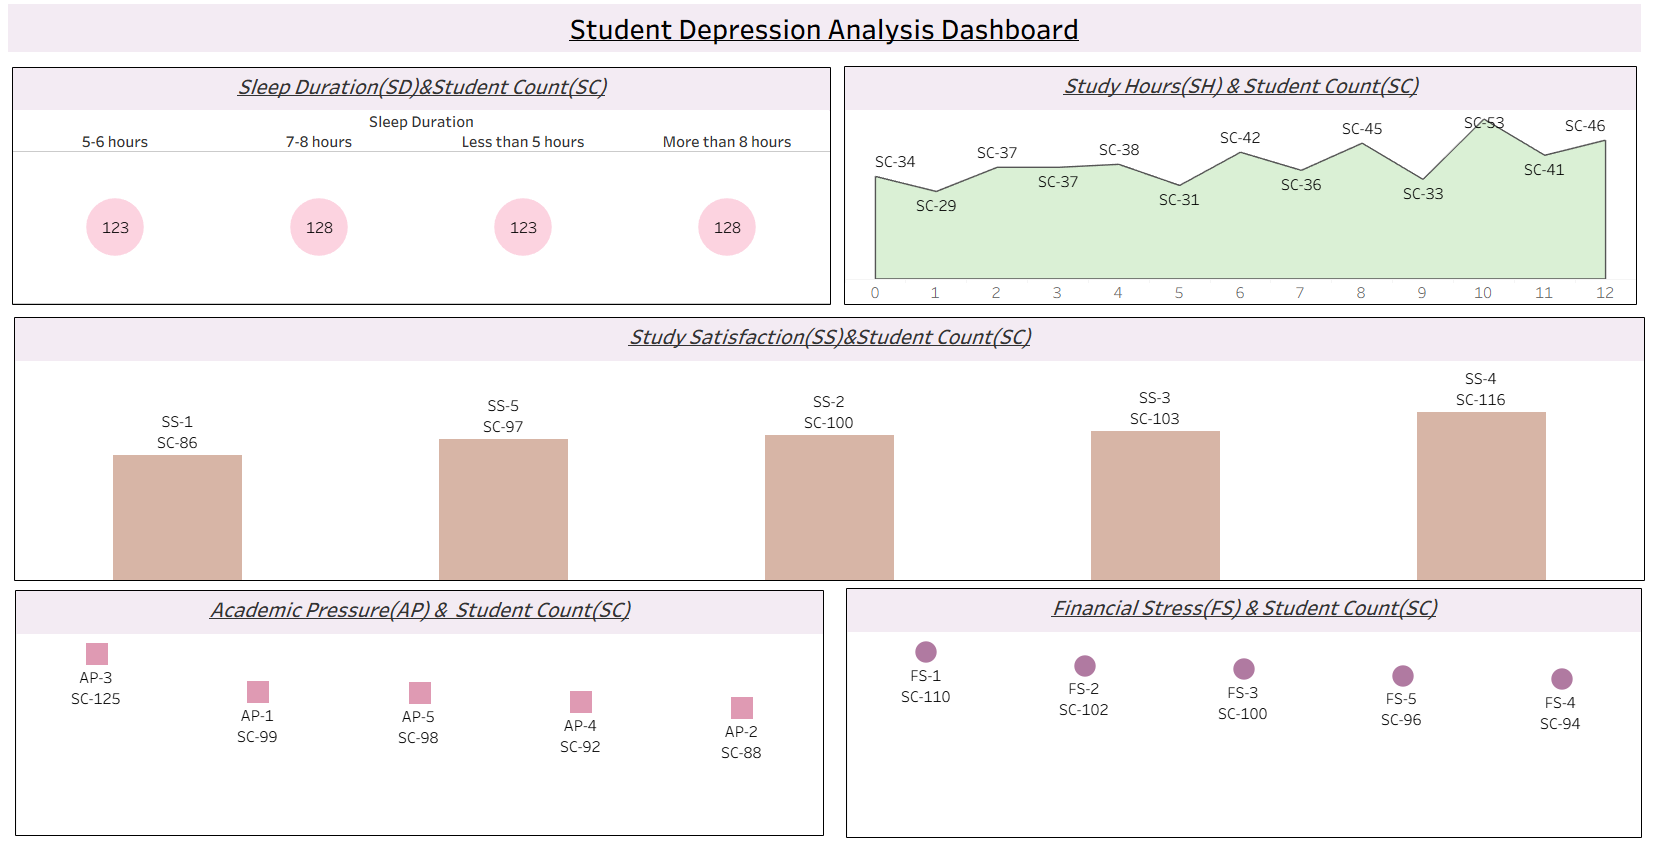

What the dashboard file says about the page in this screenshot:
{"tool":"tableau","page":{"name":"Student Count Analysis","canvas":[1000,1000],"units":"permille","ordinal":0},"visuals":[{"type":"text","box":[4.8,9.4,990.3,65.8]},{"type":"worksheet","title":"SH&SC","mark":"Area","rows":["INDEX_Column"],"cols":["Study_Hours"],"box":[511.8,87,478.6,280.9]},{"type":"worksheet","title":"SD&SC","mark":"Pie","cols":["Sleep_Duration"],"box":[9.7,88.1,494.3,279.7]},{"type":"worksheet","title":"SS&SC","mark":"Automatic","rows":["INDEX_Column"],"cols":["Study_Satisfaction"],"box":[10.9,381.9,984.3,310.2]},{"type":"worksheet","title":"FS & SC","mark":"Circle","rows":["INDEX_Column"],"cols":["Financial_Stress"],"box":[513,700.4,480.4,293.8]},{"type":"worksheet","title":"AP & SC","mark":"Square","rows":["INDEX_Column"],"cols":["Academic_Pressure"],"box":[11.5,702.7,488.2,289.1]}]}

Visuals, with their boxes on the dashboard's canvas, which has no fixed pixel size, in thousandths of its width and height (x1, y1, x2, y2). These are canvas units, not pixel positions in the 1653x842 screenshot, which may show the page scaled, cropped or inside an application window:
text: region(5, 9, 995, 75)
"SH&SC" worksheet (Area marks): region(512, 87, 990, 368)
"SD&SC" worksheet (Pie marks): region(10, 88, 504, 368)
"SS&SC" worksheet: region(11, 382, 995, 692)
"FS & SC" worksheet (Circle marks): region(513, 700, 993, 994)
"AP & SC" worksheet (Square marks): region(12, 703, 500, 992)
